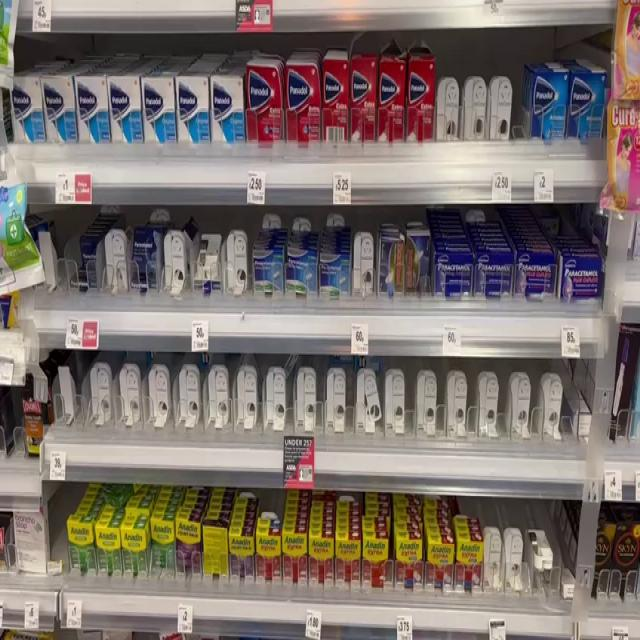Other: (0, 185, 49, 295), (10, 495, 55, 593), (172, 71, 214, 152), (567, 67, 611, 142), (248, 62, 285, 151), (346, 50, 382, 140), (530, 70, 571, 149), (138, 73, 181, 147), (405, 52, 439, 144), (376, 54, 407, 149), (290, 58, 323, 145), (211, 73, 247, 149), (106, 72, 143, 145), (322, 56, 351, 148), (252, 527, 290, 595), (41, 74, 76, 147), (75, 73, 110, 145), (389, 529, 426, 597), (356, 535, 396, 596), (11, 70, 41, 149), (116, 523, 153, 587), (200, 516, 234, 584), (279, 520, 311, 591), (473, 250, 516, 302), (173, 509, 204, 581), (20, 374, 46, 458), (455, 530, 488, 596), (93, 518, 127, 582), (378, 226, 408, 298), (435, 251, 480, 298), (615, 517, 640, 600), (64, 510, 93, 581), (148, 519, 183, 577), (224, 524, 256, 587), (427, 532, 456, 601), (306, 527, 336, 592), (514, 252, 559, 294), (335, 530, 365, 593), (560, 253, 601, 298), (405, 232, 433, 294), (319, 254, 350, 306), (283, 253, 320, 295), (254, 253, 286, 294)
